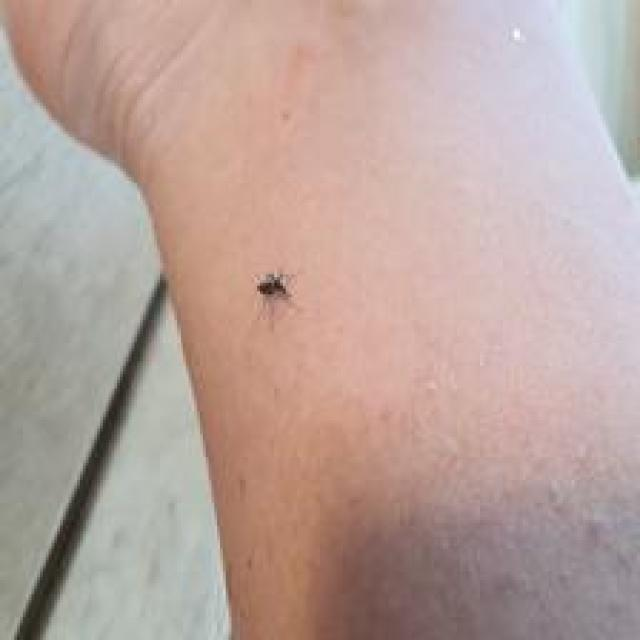Aedes albopictus: (253, 269, 296, 314)
